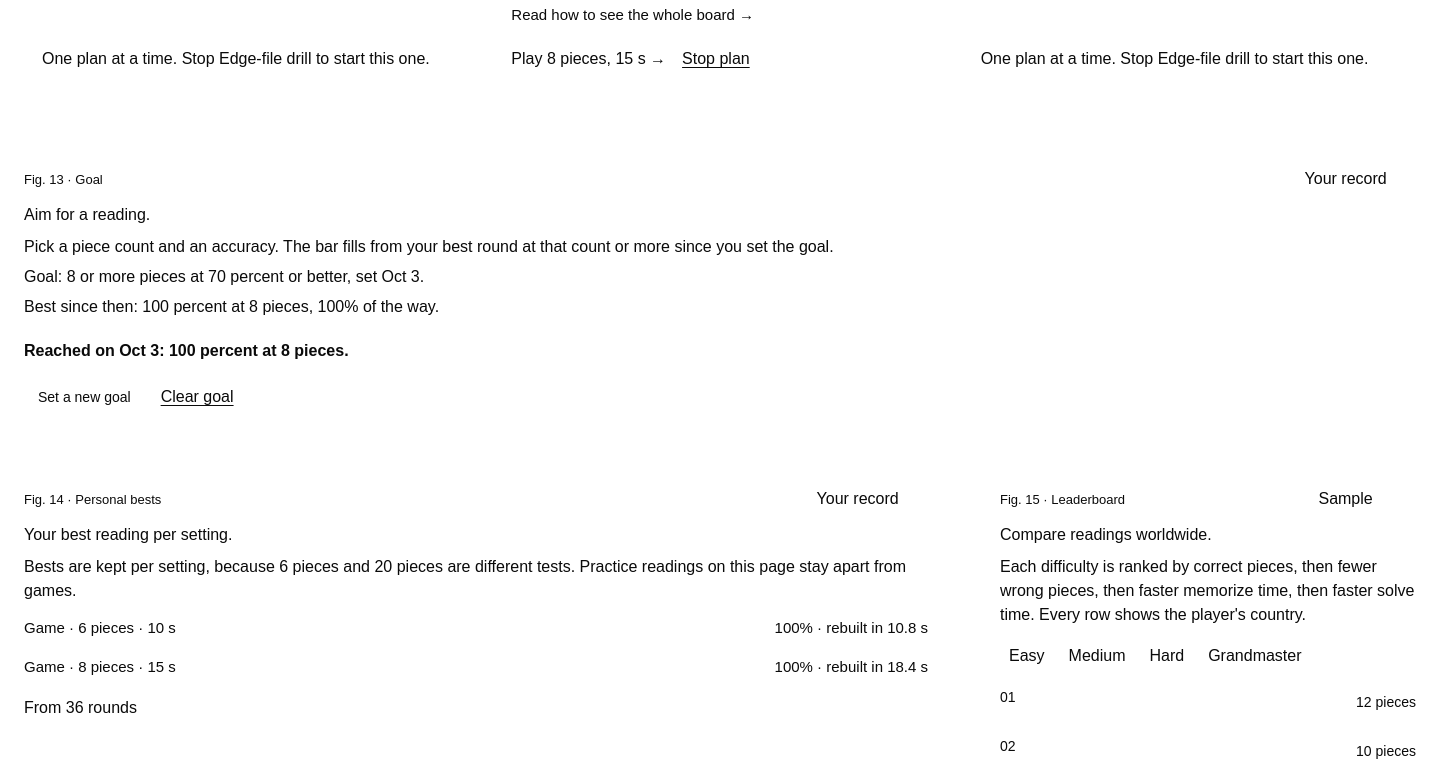
Test: the goal › says when and with what a goal was reached, with its bar labelled in words, and clears it
This screenshot has width=1440, height=780.
(page scrolled)
Expected: the text "Best since then: 100 percent at 8 pieces, 100% of the way." is shown, [24,298,439,315]
Expected: the text "Reached on Oct 3: 100 percent at 8 pieces." is shown, [24,342,349,359]
Step 1. Click the button "Clear goal" → (197, 397), box [161,385,234,409]
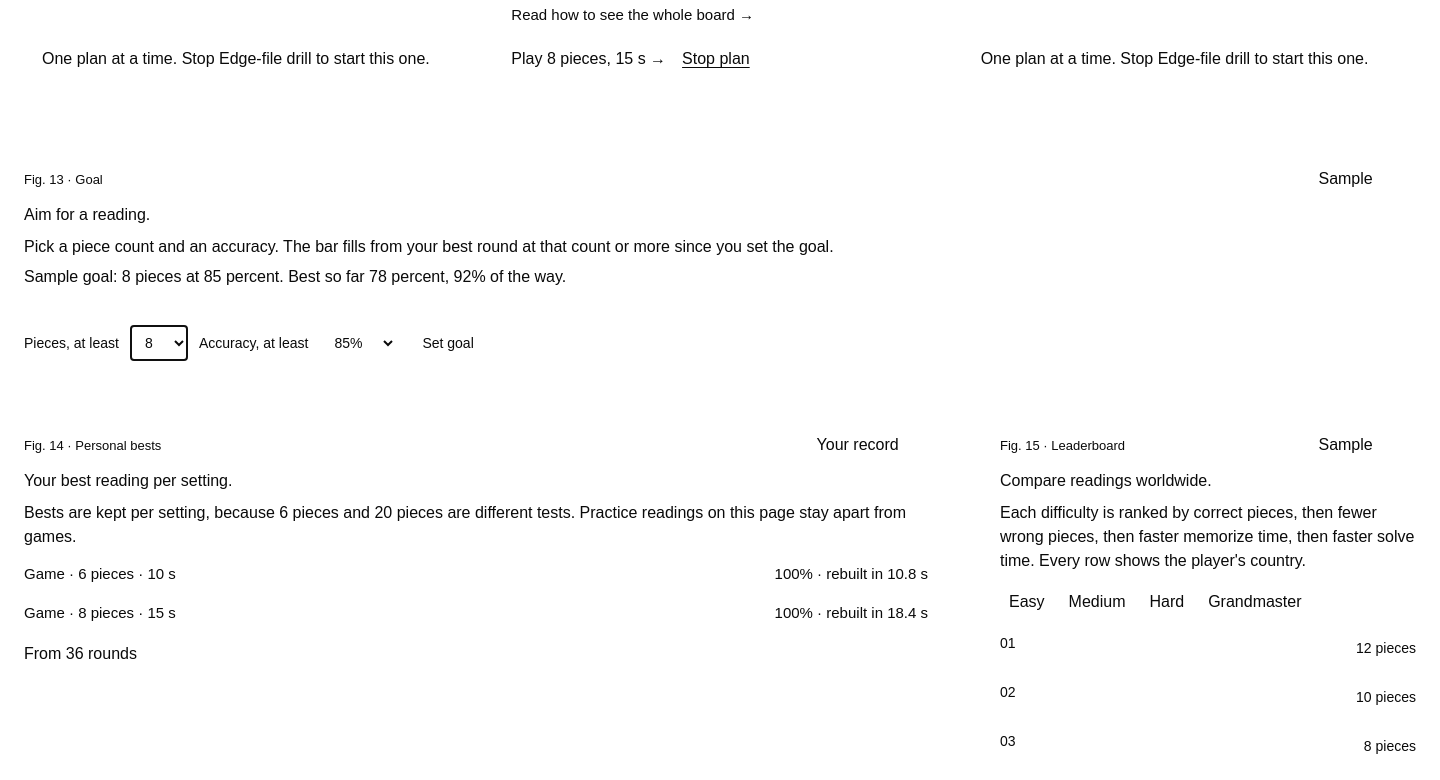
Now the form named "New goal" is shown, box [24,325,488,361]
